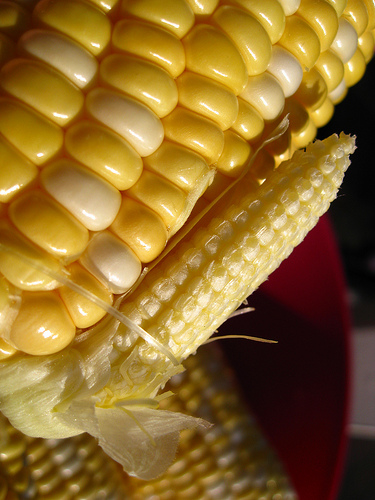corn: (0, 0, 373, 355), (1, 131, 361, 481), (92, 347, 297, 498)
